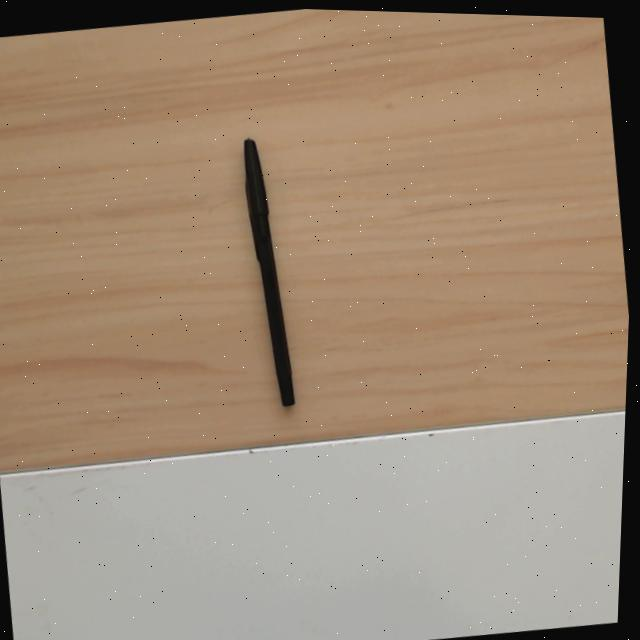Pulpen-Hitam: (234, 135, 298, 408)
